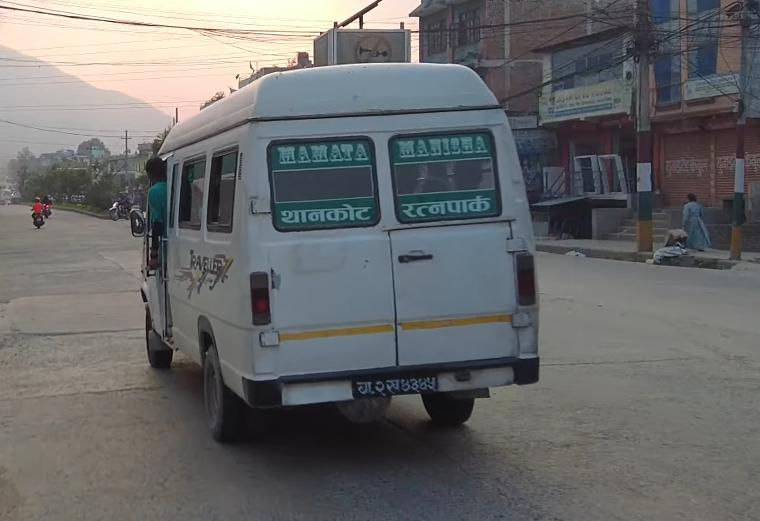bike: (108, 198, 133, 222)
micro_bus: (131, 57, 558, 449)
